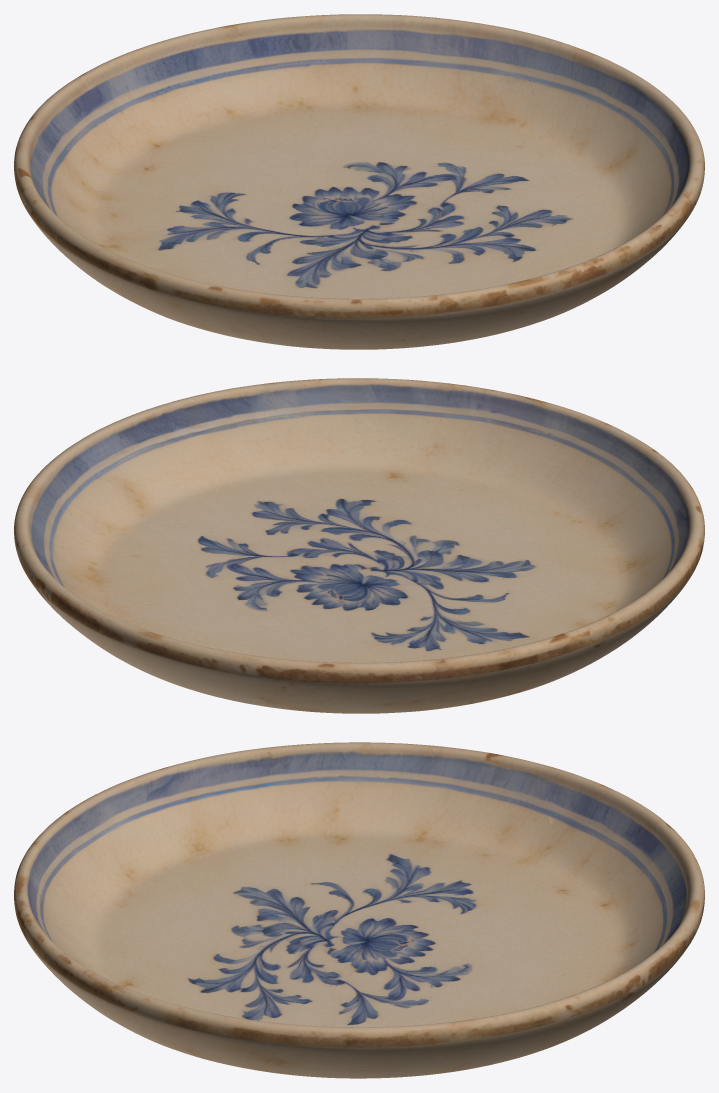
The model's file is Plate.fbx.
The picture shows the model from 3 angles, top to bottom: view 1: azimuth 30°, elevation 25°; view 2: azimuth 150°, elevation 25°; view 3: azimuth 270°, elevation 25°; orthographic projection.
Visible parts, largest first — view 1: Mesh_0; view 2: Mesh_0; view 3: Mesh_0.
Part boxes in pixels (x1=…): Mesh_0: x1=14, y1=14, x2=704, y2=349; Mesh_0: x1=14, y1=378, x2=704, y2=713; Mesh_0: x1=14, y1=742, x2=704, y2=1078.
Bounding box in the file's own units: 119 × 14.86 × 119.
1 material, 1 textured.
